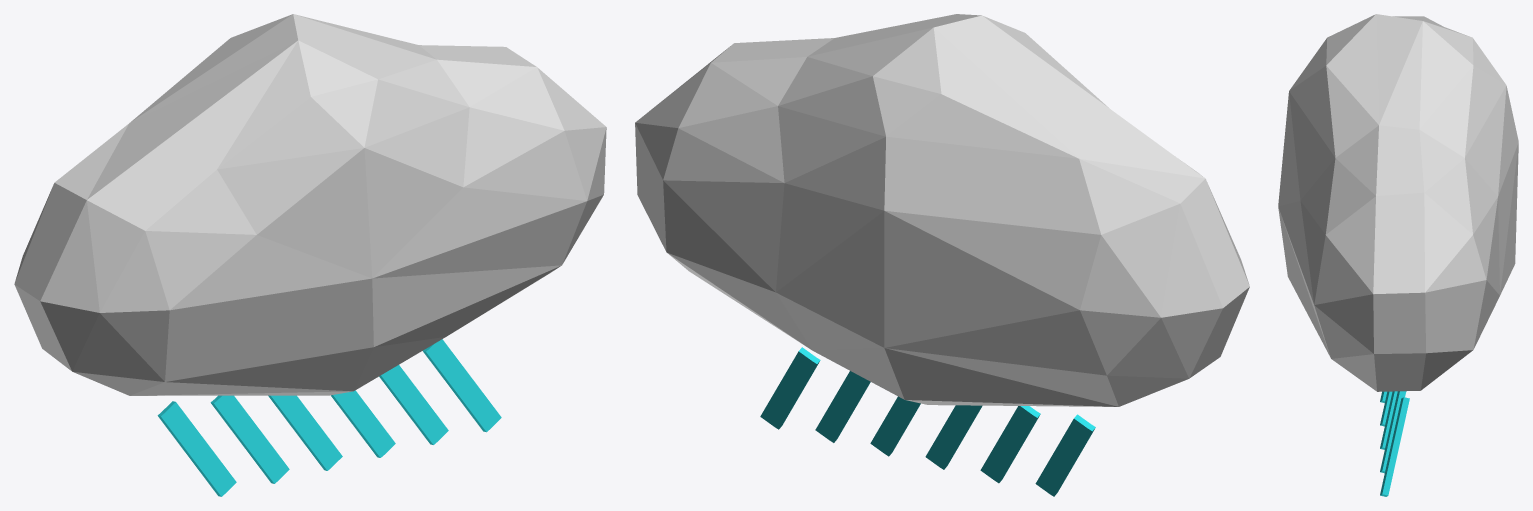
3 views of the same model, side by side, from view 1: azimuth 30°, elevation 25°; view 2: azimuth 150°, elevation 25°; view 3: azimuth 270°, elevation 25° (orthographic). The views are drawn at different scales.
Visible parts, largest first — view 1: Mball.004, Plane; view 2: Mball.004, Plane; view 3: Mball.004, Plane.
Part boxes in pixels (x1=…): Mball.004: x1=14, y1=14, x2=606, y2=395; Plane: x1=157, y1=339, x2=501, y2=496; Mball.004: x1=635, y1=14, x2=1249, y2=406; Plane: x1=760, y1=347, x2=1095, y2=496; Mball.004: x1=1278, y1=14, x2=1518, y2=391; Plane: x1=1380, y1=391, x2=1409, y2=496.
Bounding box in the file's own units: 605 × 454 × 247.
